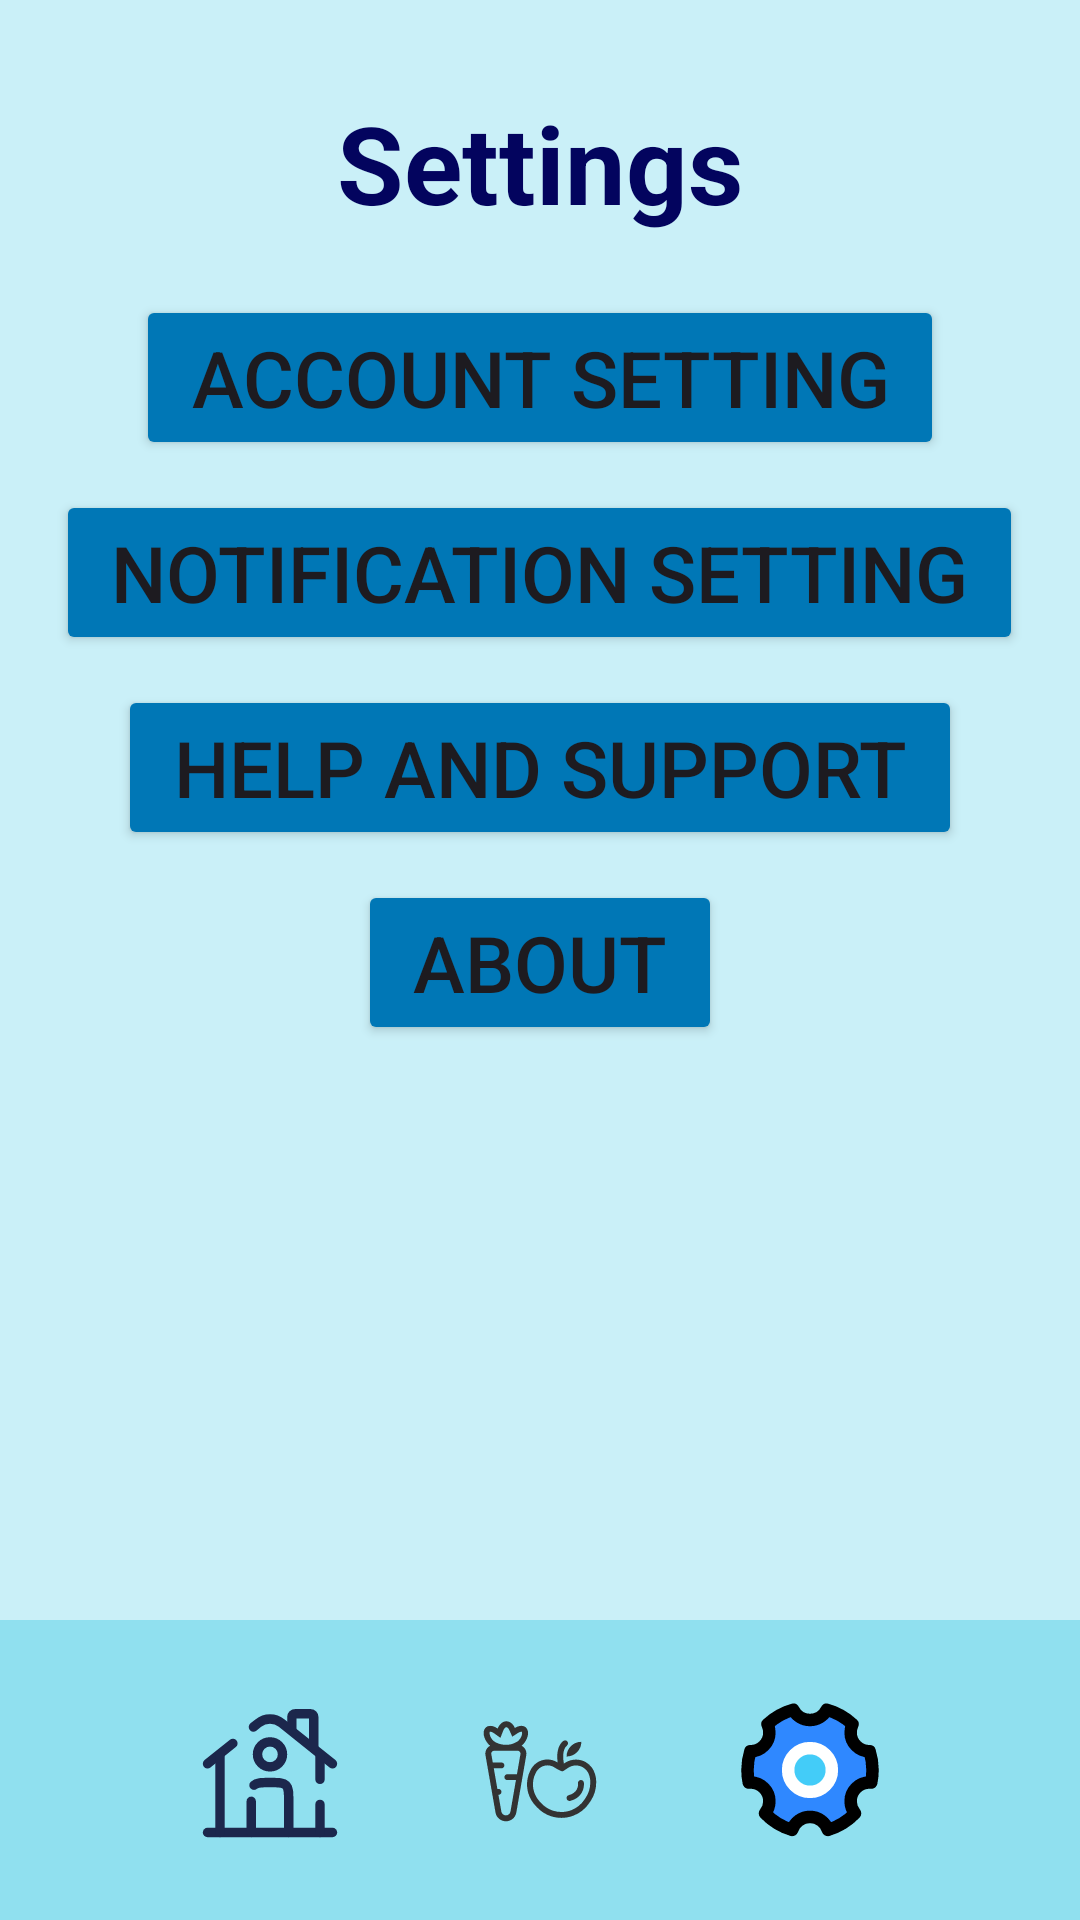

Locate icon controls on the screen. Image size 1080 x 1920, boxes as [x1, y1, x2, y2].
home: [202, 1709, 338, 1838]
nutrition: [483, 1721, 597, 1822]
setting: [741, 1703, 879, 1837]
